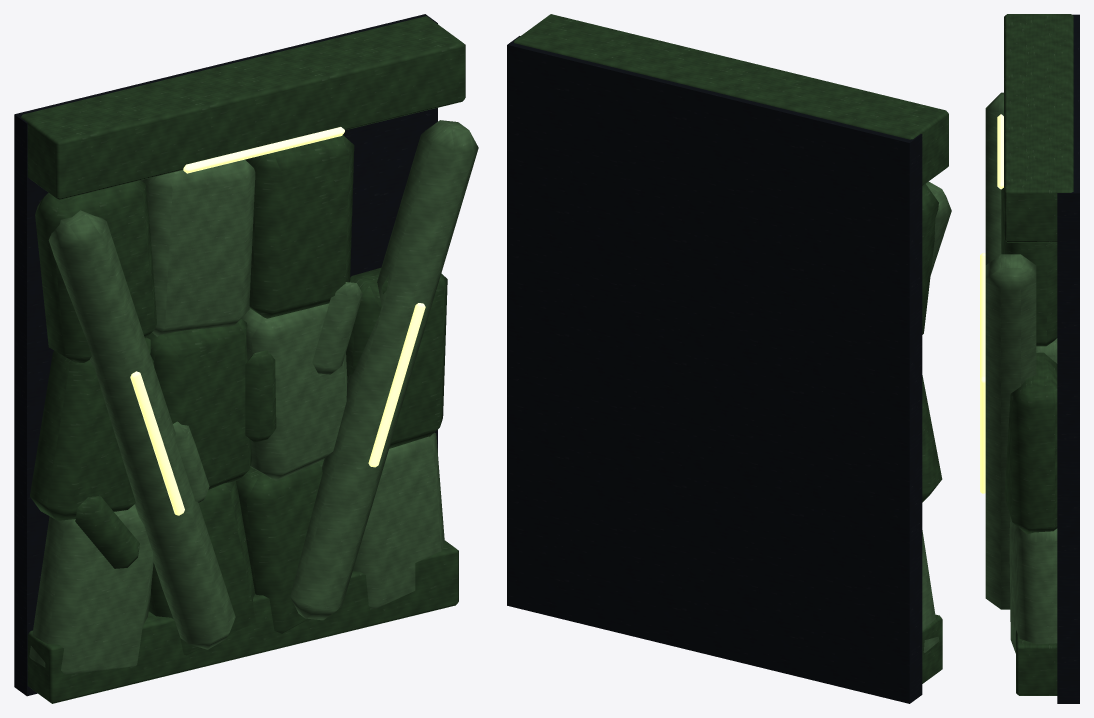
File: machine_jungle_room.glb
The picture shows the model from 3 angles, left to right: view 1: azimuth 30°, elevation 25°; view 2: azimuth 150°, elevation 25°; view 3: azimuth 270°, elevation 25°; orthographic projection. The views are drawn at different scales.
Visible parts, largest first — view 1: machine_jungle_room - machine_jungle panels, machine_jungle_room - machine_jungle trim, machine_jungle_room - Recessed iron, machine_jungle_room - machine_jungle accents; view 2: machine_jungle_room - Recessed iron, machine_jungle_room - machine_jungle panels, machine_jungle_room - machine_jungle trim; view 3: machine_jungle_room - machine_jungle panels, machine_jungle_room - machine_jungle trim, machine_jungle_room - Recessed iron, machine_jungle_room - machine_jungle accents.
Boxes of the visible parts, bbox=[...] form: machine_jungle_room - machine_jungle panels: bbox=[21, 16, 465, 703]; machine_jungle_room - machine_jungle trim: bbox=[29, 120, 478, 674]; machine_jungle_room - Recessed iron: bbox=[14, 14, 437, 696]; machine_jungle_room - machine_jungle accents: bbox=[130, 127, 425, 515]; machine_jungle_room - Recessed iron: bbox=[507, 36, 922, 703]; machine_jungle_room - machine_jungle panels: bbox=[513, 14, 948, 683]; machine_jungle_room - machine_jungle trim: bbox=[922, 181, 951, 652]; machine_jungle_room - machine_jungle panels: bbox=[1001, 14, 1073, 695]; machine_jungle_room - machine_jungle trim: bbox=[985, 92, 1057, 653]; machine_jungle_room - Recessed iron: bbox=[1057, 14, 1079, 703]; machine_jungle_room - machine_jungle accents: bbox=[980, 114, 1003, 493].
Size of the model in its own units: 6.19 by 8.03 by 1.42.
Materials: 4 (3 with a texture image).
